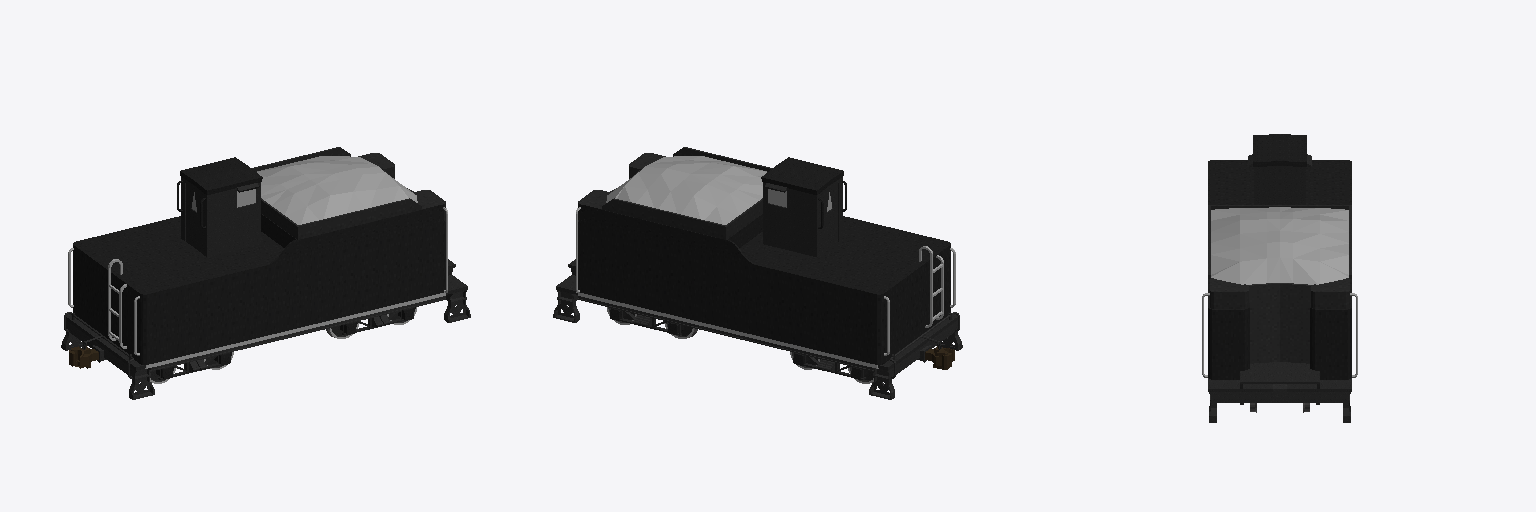
3 renders of one model, left to right at view 1: azimuth 30°, elevation 25°; view 2: azimuth 150°, elevation 25°; view 3: azimuth 270°, elevation 25°, orthographic.
Parts seen in each view (by area): view 1: SHELL_Cube.000, Plane.004, Doghouse_Cube.003, FRAME_Cube.017, BOGEY_REAR_Cube.020, BOGEY_FRONT_Cube.024, Ladder_Cube.007; view 2: SHELL_Cube.000, Plane.004, Doghouse_Cube.003, FRAME_Cube.017, BOGEY_REAR_Cube.020, BOGEY_FRONT_Cube.024, Ladder_Cube.007; view 3: SHELL_Cube.000, Plane.004, FRAME_Cube.017, Doghouse_Cube.003.
Part boxes in pixels (bbox=[...]): SHELL_Cube.000: bbox=[68, 147, 447, 368]; Plane.004: bbox=[257, 156, 417, 224]; Doghouse_Cube.003: bbox=[177, 157, 262, 256]; FRAME_Cube.017: bbox=[61, 259, 470, 399]; BOGEY_REAR_Cube.020: bbox=[156, 353, 230, 379]; BOGEY_FRONT_Cube.024: bbox=[340, 308, 413, 335]; Ladder_Cube.007: bbox=[108, 259, 126, 348]; SHELL_Cube.000: bbox=[576, 147, 955, 368]; Plane.004: bbox=[606, 156, 766, 224]; Doghouse_Cube.003: bbox=[761, 157, 846, 256]; FRAME_Cube.017: bbox=[553, 259, 962, 399]; BOGEY_REAR_Cube.020: bbox=[793, 353, 867, 379]; BOGEY_FRONT_Cube.024: bbox=[610, 308, 683, 335]; Ladder_Cube.007: bbox=[919, 246, 943, 327]; SHELL_Cube.000: bbox=[1202, 160, 1357, 379]; Plane.004: bbox=[1211, 207, 1348, 284]; FRAME_Cube.017: bbox=[1208, 362, 1351, 422]; Doghouse_Cube.003: bbox=[1248, 134, 1311, 204].
Size of the model in its own units: 7.67 by 3.64 by 2.82.
Materials: 10 (7 with a texture image).